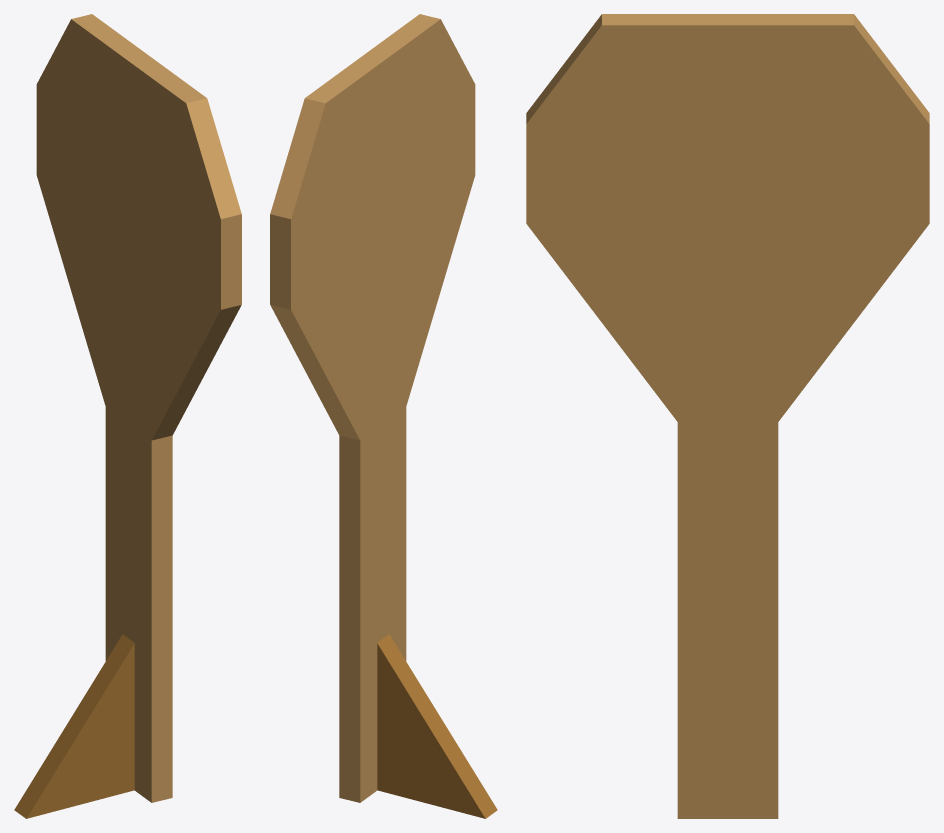
Rendered from CarboardCutout4WIP.fbx.
3 renders of one model, left to right at view 1: azimuth 30°, elevation 25°; view 2: azimuth 150°, elevation 25°; view 3: azimuth 270°, elevation 25°, orthographic. The views are drawn at different scales.
Parts seen in each view (by area): view 1: Cube, Cube.001; view 2: Cube, Cube.001; view 3: Cube.
Boxes of the visible parts, x1,y1,x2,y2 form: Cube: (36, 14, 241, 802); Cube.001: (14, 634, 134, 818); Cube: (270, 14, 475, 802); Cube.001: (377, 634, 497, 818); Cube: (526, 14, 929, 818).
Size of the model in its own units: 216 by 1161 by 533.
